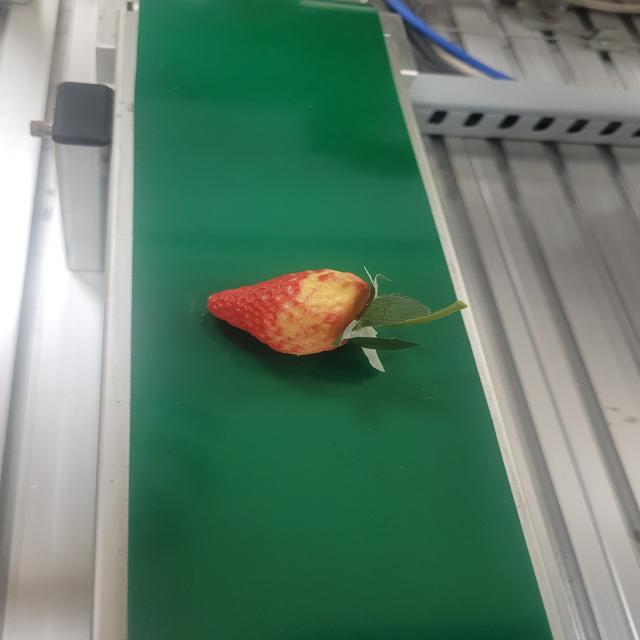Moldy Strawberry: (205, 266, 372, 357)
